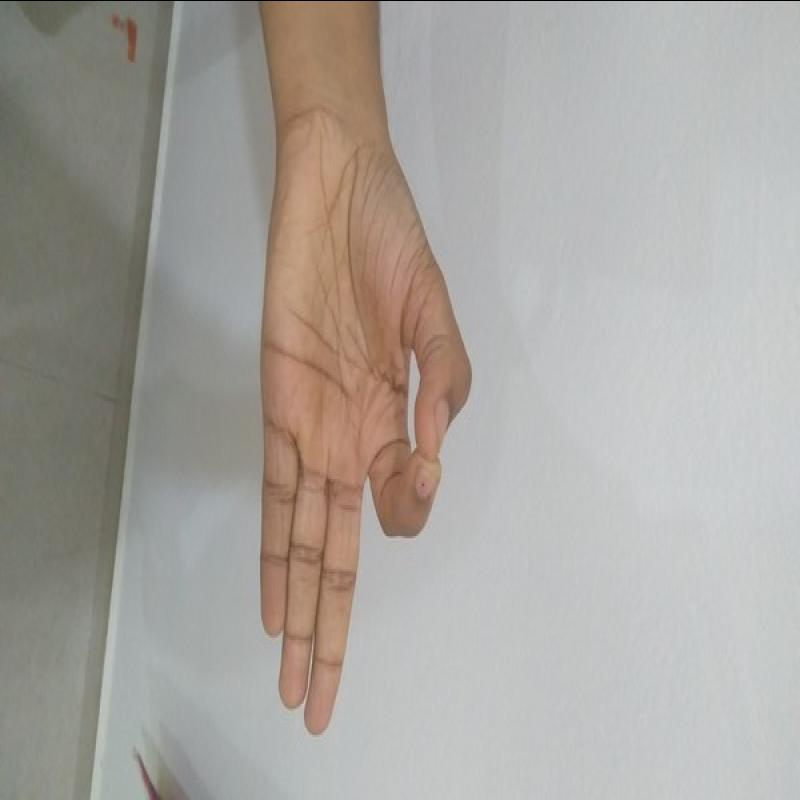Mudraakhyam: (221, 105, 491, 746)
